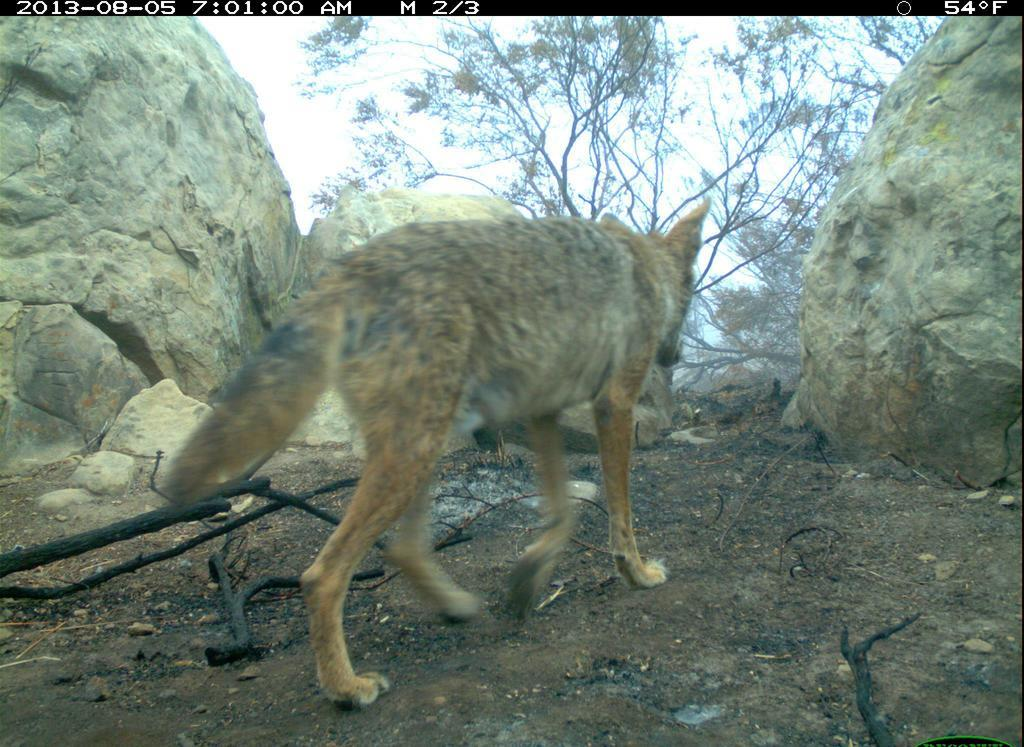coyote: (152, 194, 715, 712)
